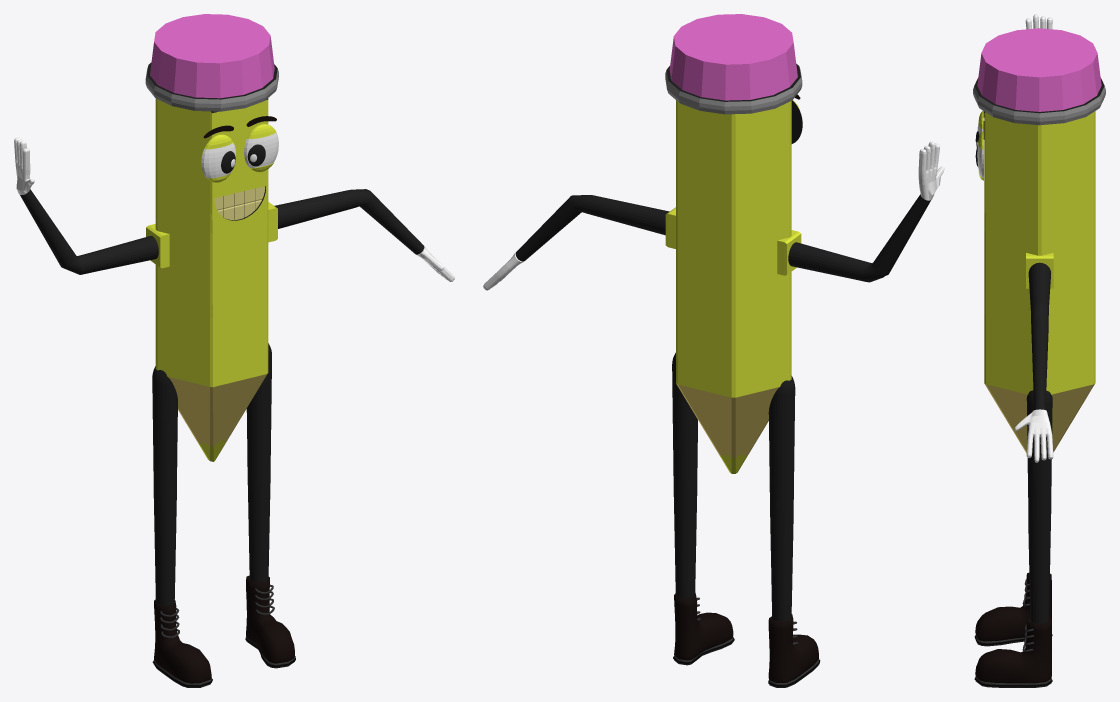
The model's file is KARANDASHsTATUA.fbx.
3 views of the same model, side by side, from view 1: azimuth 30°, elevation 25°; view 2: azimuth 150°, elevation 25°; view 3: azimuth 270°, elevation 25° (orthographic). The views are drawn at different scales.
Visible parts, largest first — view 1: Ноги.005; view 2: Ноги.005; view 3: Ноги.005.
Part boxes in pixels (x1,y1,x2,y2): Ноги.005: [14, 14, 454, 687]; Ноги.005: [483, 14, 944, 687]; Ноги.005: [973, 14, 1105, 687].
Size of the model in its own units: 5858 by 7931 by 1572.
